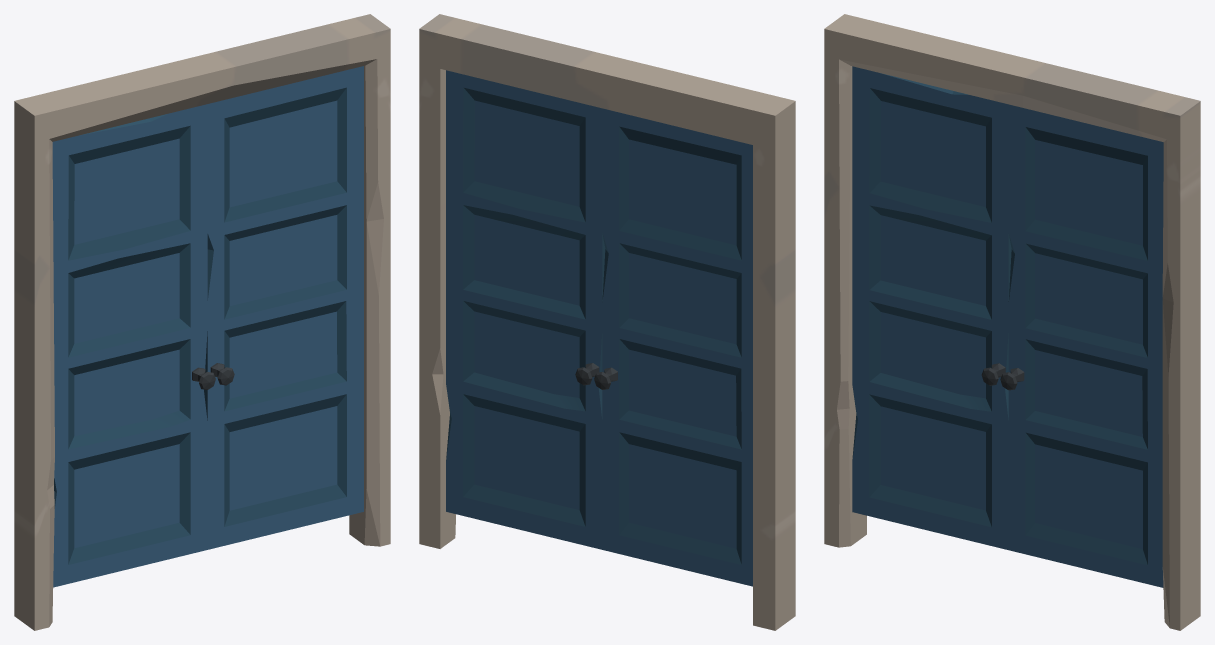
Rendered from SM_Bld_Shop_Door_04.fbx.
3 renders of one model, left to right at view 1: azimuth 30°, elevation 25°; view 2: azimuth 150°, elevation 25°; view 3: azimuth 330°, elevation 25°, orthographic.
Visible parts, largest first — view 1: SM_Bld_Shop_Door_04_R, SM_Bld_Shop_Door_04_L, SM_Bld_Shop_Door_04; view 2: SM_Bld_Shop_Door_04_R, SM_Bld_Shop_Door_04_L, SM_Bld_Shop_Door_04; view 3: SM_Bld_Shop_Door_04_L, SM_Bld_Shop_Door_04_R, SM_Bld_Shop_Door_04.
Boxes of the visible parts, x1,y1,x2,y2 form: SM_Bld_Shop_Door_04_R: (204,66,363,549); SM_Bld_Shop_Door_04_L: (52,104,215,587); SM_Bld_Shop_Door_04: (14,14,390,630); SM_Bld_Shop_Door_04_R: (446,70,605,549); SM_Bld_Shop_Door_04_L: (594,108,752,586); SM_Bld_Shop_Door_04: (419,14,795,630); SM_Bld_Shop_Door_04_L: (852,66,1011,549); SM_Bld_Shop_Door_04_R: (1000,104,1163,587); SM_Bld_Shop_Door_04: (824,14,1200,630).
Bounding box in the file's own units: 233 × 323 × 35.86.
